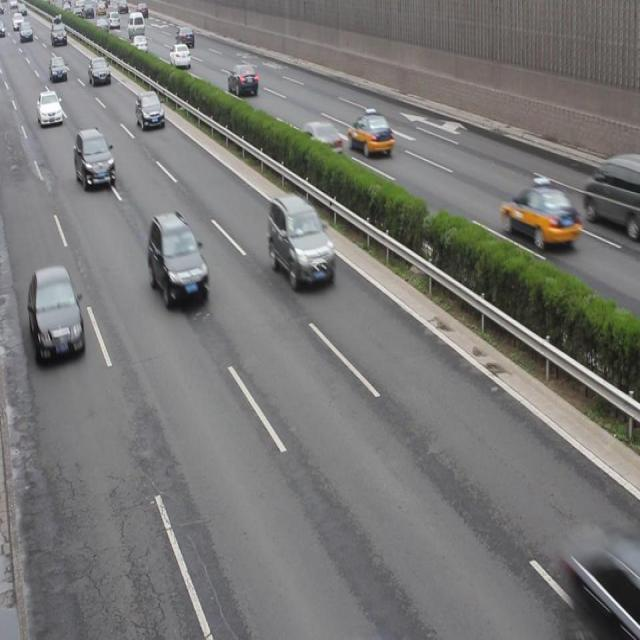car: (570, 516, 640, 640), (266, 191, 334, 288), (146, 210, 208, 309), (28, 264, 82, 359), (502, 185, 578, 250), (74, 126, 115, 190), (348, 112, 393, 162), (295, 119, 342, 164), (134, 89, 165, 134), (227, 63, 260, 98), (36, 90, 63, 130)
truck: (580, 150, 640, 237)
